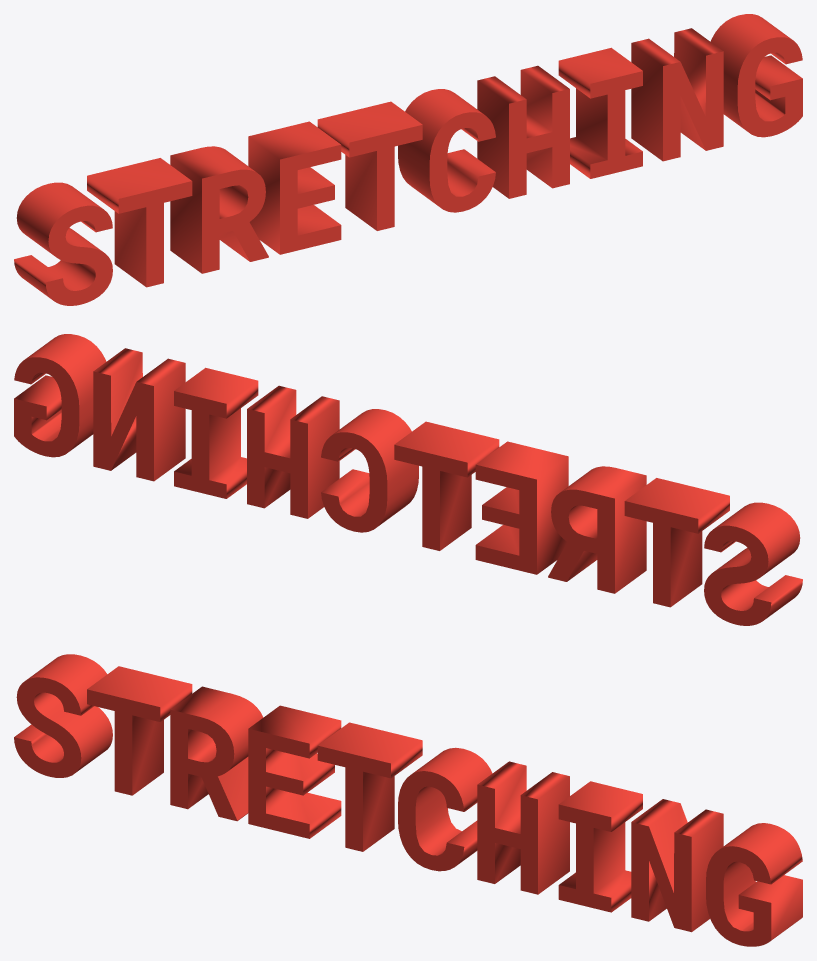
File: Stretching.fbx
3 renders of one model, top to bottom at view 1: azimuth 30°, elevation 25°; view 2: azimuth 150°, elevation 25°; view 3: azimuth 330°, elevation 25°, orthographic.
Visible parts, largest first — view 1: $ColladaAutoName$_1; view 2: $ColladaAutoName$_1; view 3: $ColladaAutoName$_1.
Part boxes in pixels (left/top/right/bottom): $ColladaAutoName$_1: left=14, top=14, right=802, bottom=305; $ColladaAutoName$_1: left=14, top=334, right=802, bottom=625; $ColladaAutoName$_1: left=14, top=654, right=802, bottom=946.
Size of the model in its own units: 820 by 102 by 59.5.
